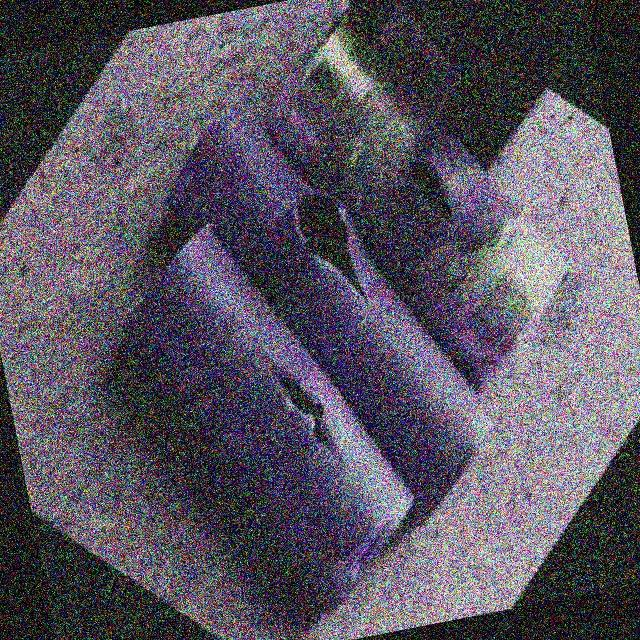Hole: (231, 340, 357, 480), (274, 179, 384, 321), (392, 141, 482, 242)
